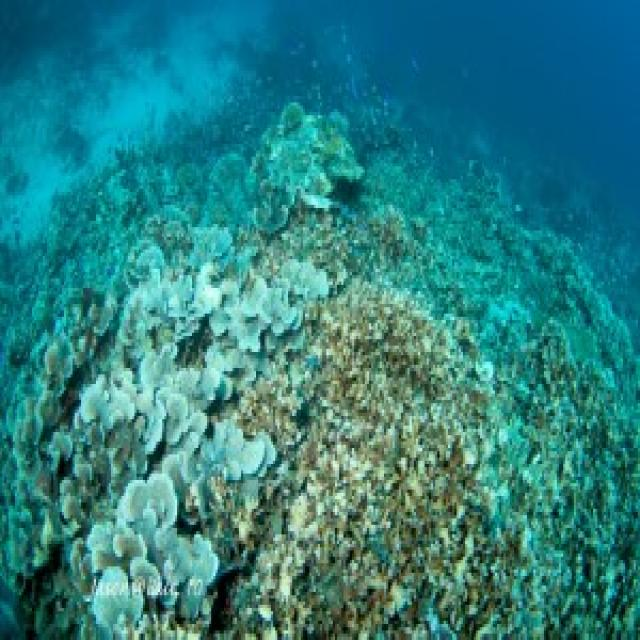Healthy: (1, 107, 626, 638)
